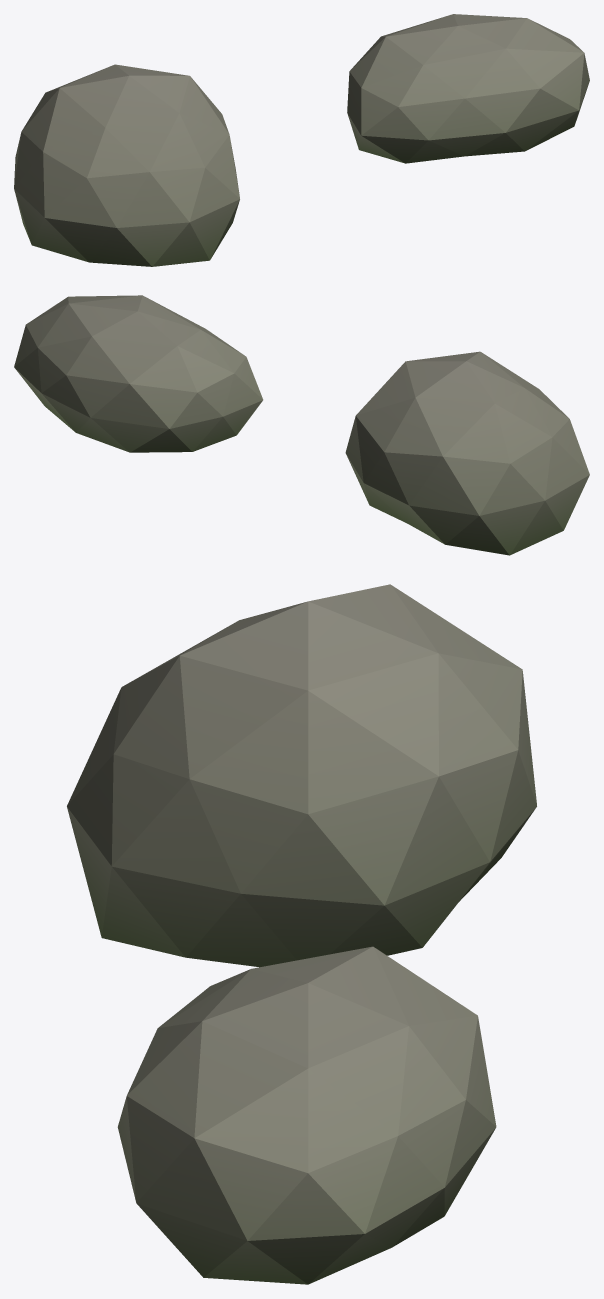
File: rocks.glb
3 views of the same model, one above another, from view 1: azimuth 30°, elevation 25°; view 2: azimuth 150°, elevation 25°; view 3: azimuth 270°, elevation 25° (orthographic). The views are drawn at different scales.
Visible parts, largest first — view 1: Rock_A, Rock_B; view 2: Rock_A, Rock_B; view 3: Rock_A, Rock_B.
Part boxes in pixels (x1=…): Rock_A: x1=14, y1=64, x2=239, y2=266; Rock_B: x1=347, y1=14, x2=589, y2=163; Rock_A: x1=345, y1=351, x2=589, y2=555; Rock_B: x1=14, y1=295, x2=263, y2=452; Rock_A: x1=67, y1=584, x2=536, y2=967; Rock_B: x1=117, y1=946, x2=496, y2=1284.
Bounding box in the file's own units: 1.17 × 0.3185 × 0.4339.
